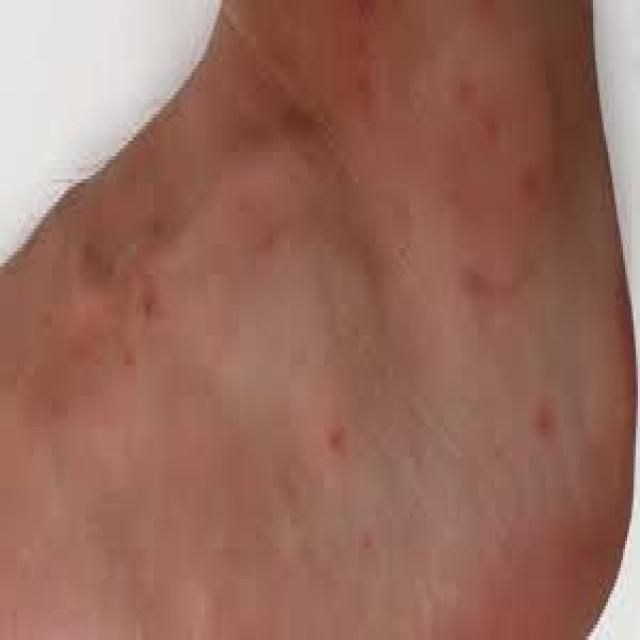kan emici bocekler: (121, 270, 216, 378), (445, 76, 509, 147), (327, 402, 372, 495), (529, 406, 574, 462)
